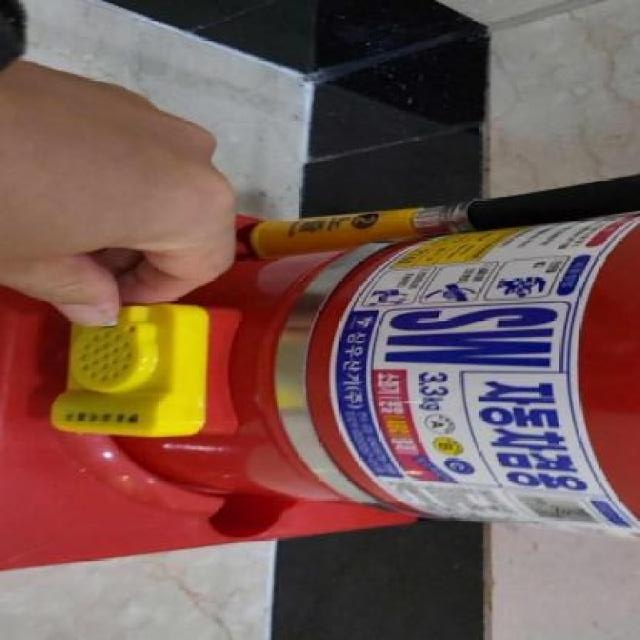fire extinguisher: (106, 173, 640, 542)
